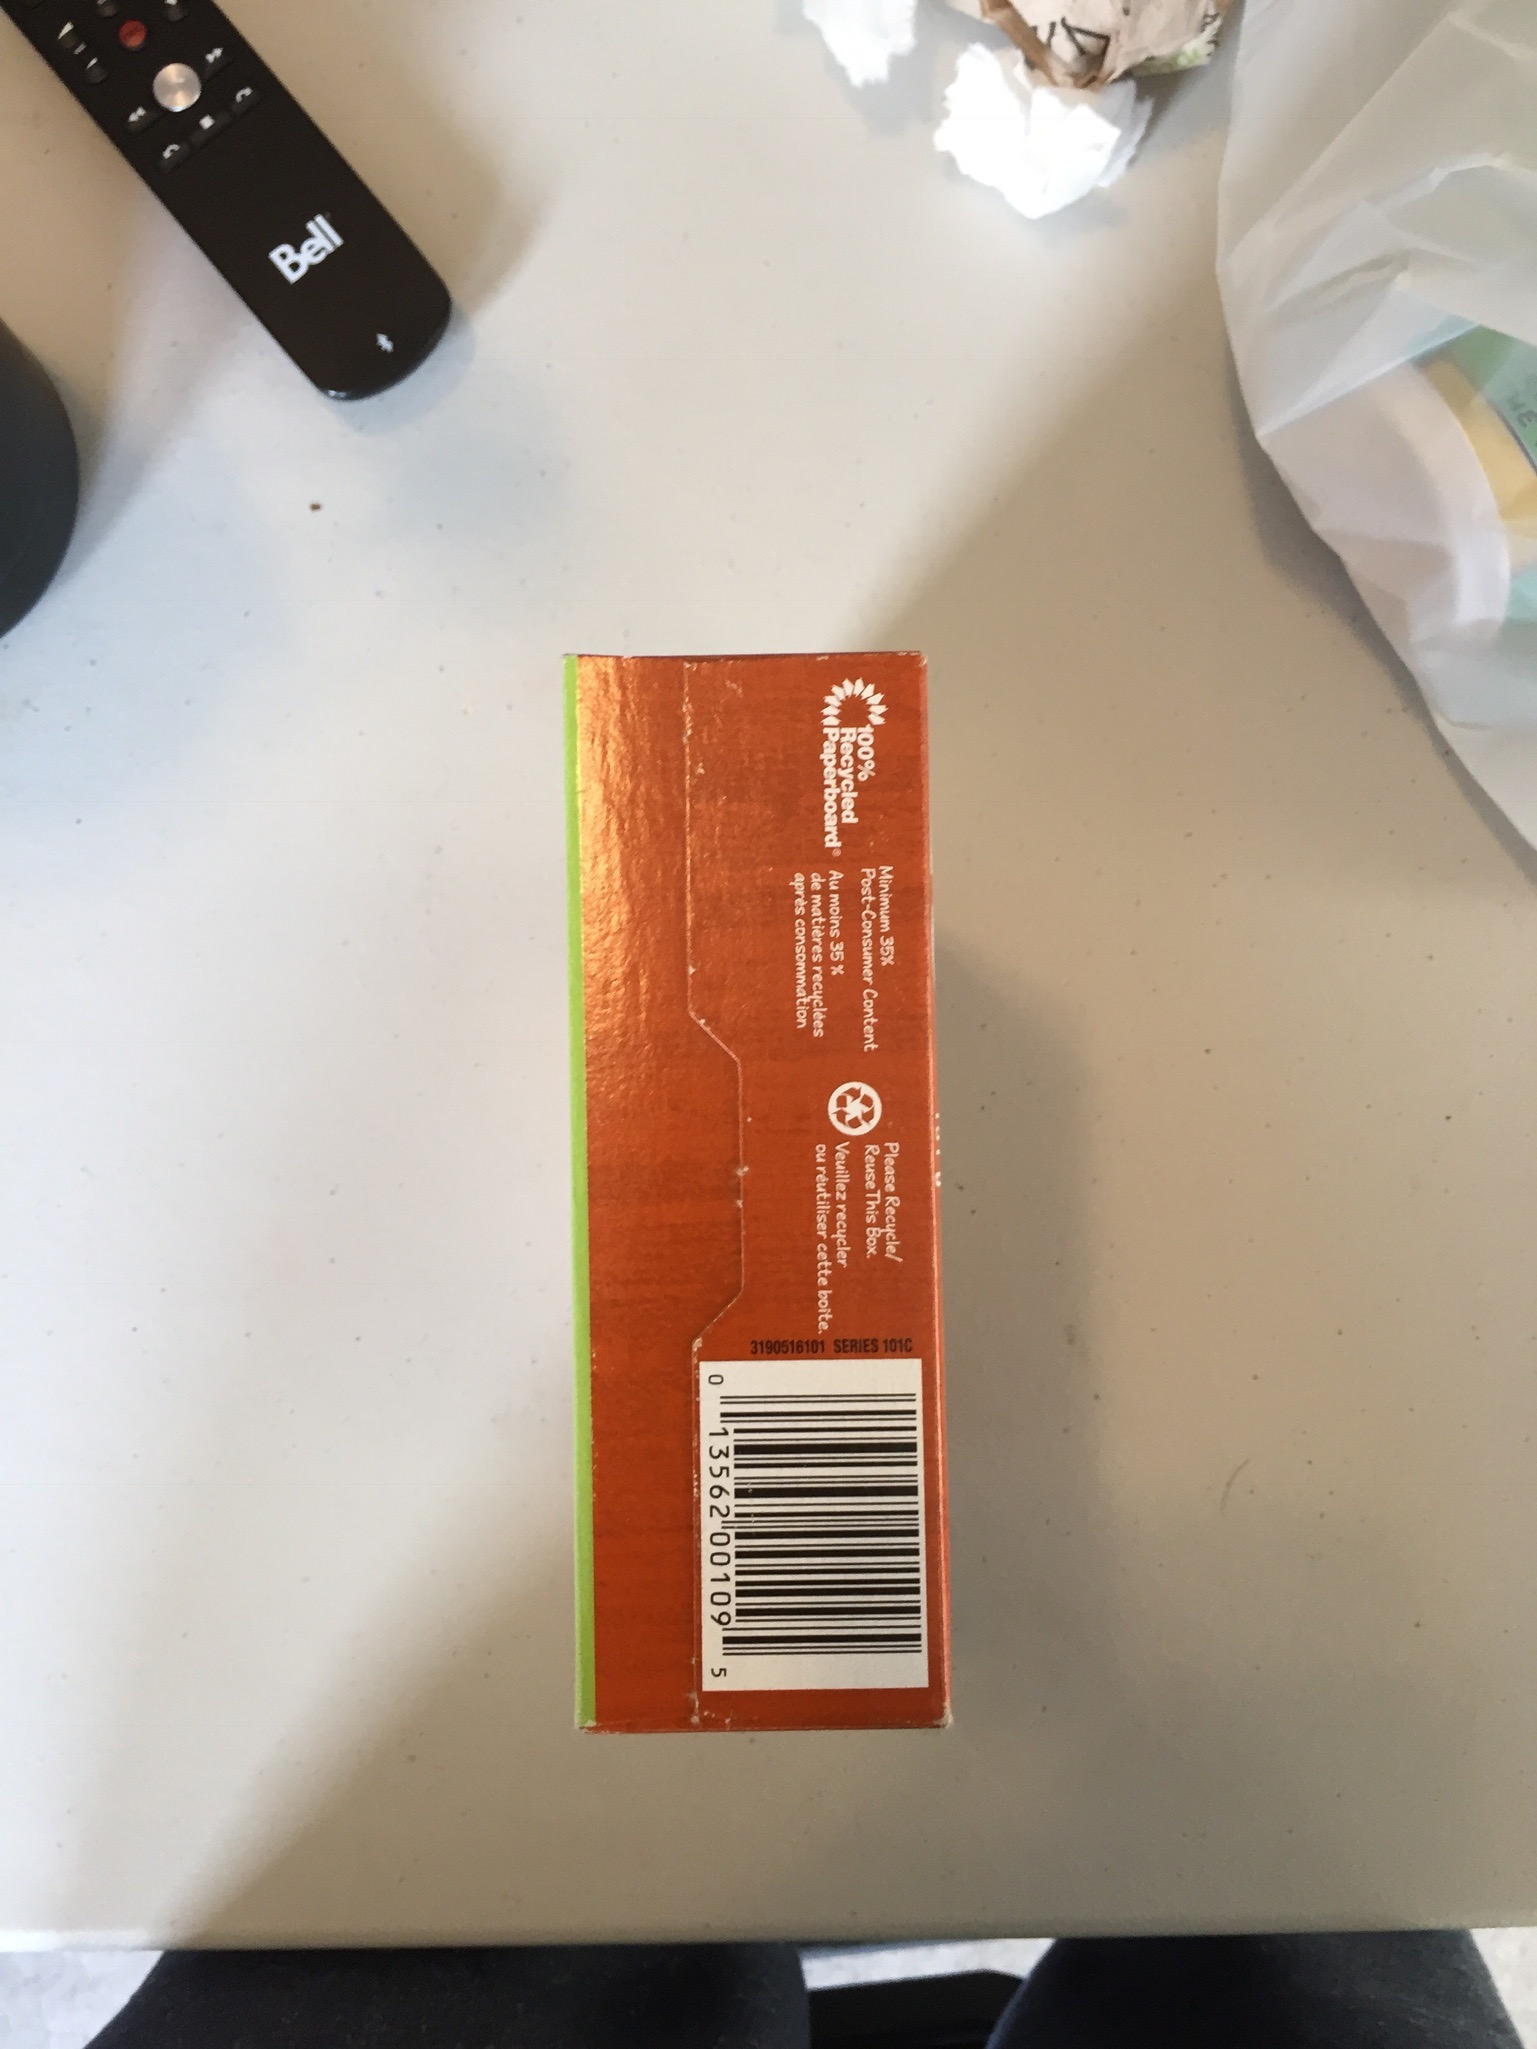annies_snickerdoodles_cinnamon_sugar: (572, 660, 927, 1728)
